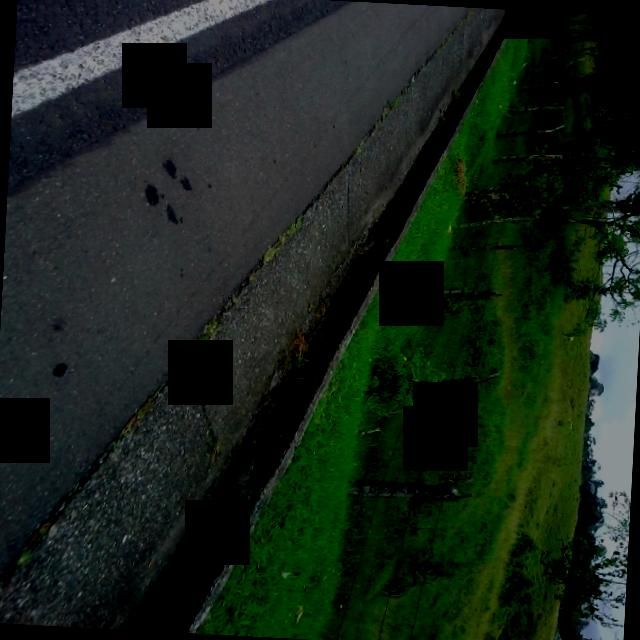DITCH: (0, 0, 546, 640), (0, 0, 519, 640), (0, 0, 514, 640)
